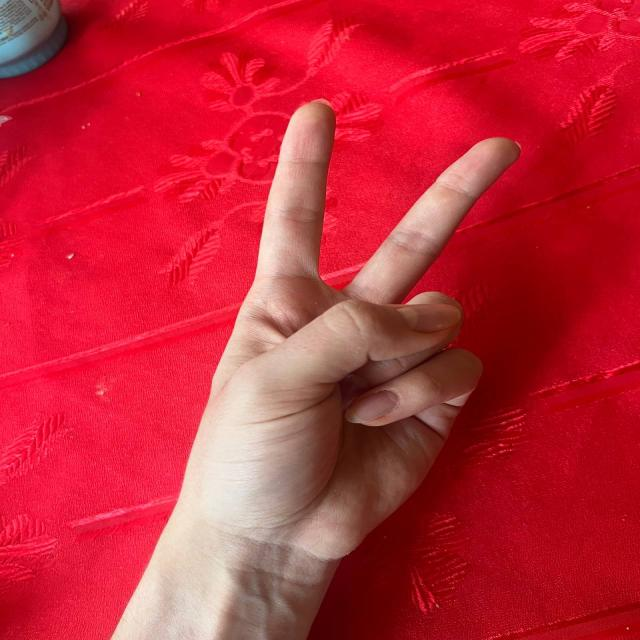k: (218, 83, 502, 515)
